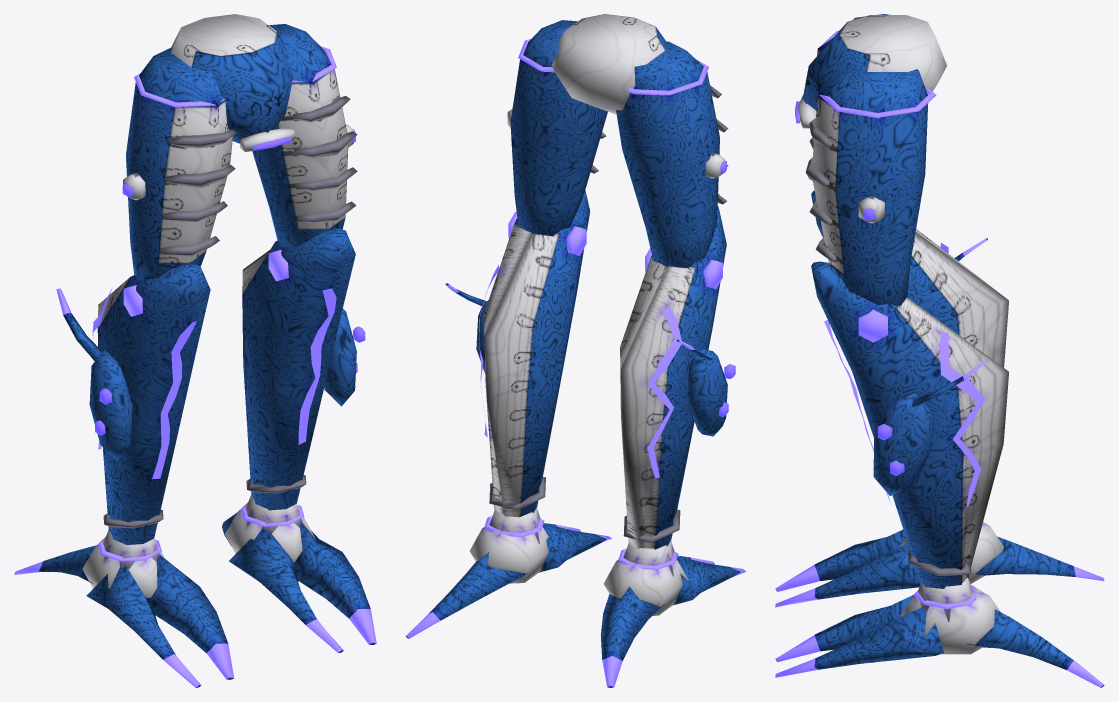
File: ReconLegsZ.glb
3 renders of one model, left to right at view 1: azimuth 30°, elevation 25°; view 2: azimuth 150°, elevation 25°; view 3: azimuth 270°, elevation 25°, orthographic. The views are drawn at different scales.
Parts seen in each view (by area): view 1: ReconLegsZ_ShinR, ReconLegsZ_ShinL, ReconLegsZ_ThighL, ReconLegsZ_ThighR, ReconLegsZ_FootL, ReconLegsZ_FootR, ReconLegsZ_Pelvis; view 2: ReconLegsZ_ShinL, ReconLegsZ_ShinR, ReconLegsZ_ThighL, ReconLegsZ_ThighR, ReconLegsZ_FootL, ReconLegsZ_FootR, ReconLegsZ_Pelvis; view 3: ReconLegsZ_ShinR, ReconLegsZ_ThighR, ReconLegsZ_FootR, ReconLegsZ_FootL, ReconLegsZ_Pelvis, ReconLegsZ_ShinL.
Part boxes in pixels (<box>): ReconLegsZ_ShinR: <box>242,228,365,510</box>; ReconLegsZ_ShinL: <box>56,264,210,544</box>; ReconLegsZ_ThighL: <box>122,47,236,280</box>; ReconLegsZ_ThighR: <box>252,24,357,247</box>; ReconLegsZ_FootL: <box>14,530,234,687</box>; ReconLegsZ_FootR: <box>222,495,376,652</box>; ReconLegsZ_Pelvis: <box>171,14,294,151</box>; ReconLegsZ_ShinL: <box>620,206,735,549</box>; ReconLegsZ_ShinR: <box>445,190,590,517</box>; ReconLegsZ_ThighL: <box>616,41,728,267</box>; ReconLegsZ_ThighR: <box>507,20,607,236</box>; ReconLegsZ_FootL: <box>600,540,746,687</box>; ReconLegsZ_FootR: <box>405,507,611,638</box>; ReconLegsZ_Pelvis: <box>552,14,665,114</box>; ReconLegsZ_ShinR: <box>811,261,1008,588</box>; ReconLegsZ_ThighR: <box>805,67,936,305</box>; ReconLegsZ_FootR: <box>775,578,1104,687</box>; ReconLegsZ_FootL: <box>775,522,1104,607</box>; ReconLegsZ_Pelvis: <box>795,15,947,128</box>; ReconLegsZ_ShinL: <box>811,190,1008,367</box>.
Bounding box in the file's own units: 9.96 × 21.44 × 10.7.
6 materials, 4 textured.
